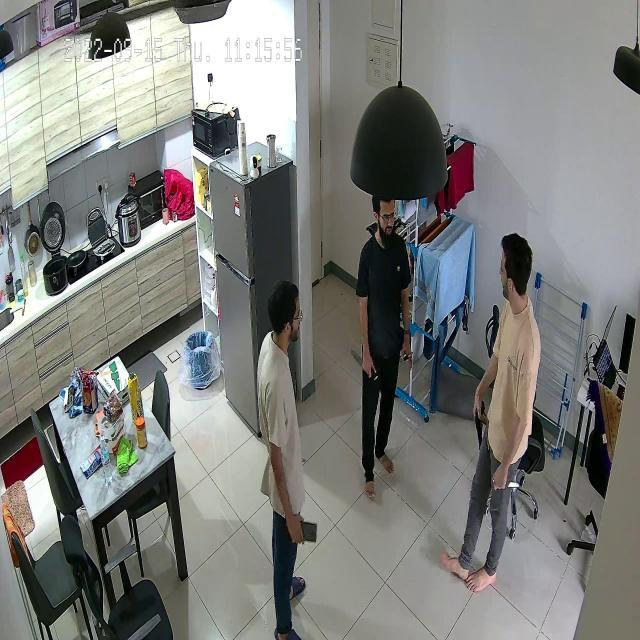Gun: (469, 397, 490, 461)
Knife: (345, 342, 383, 379)
